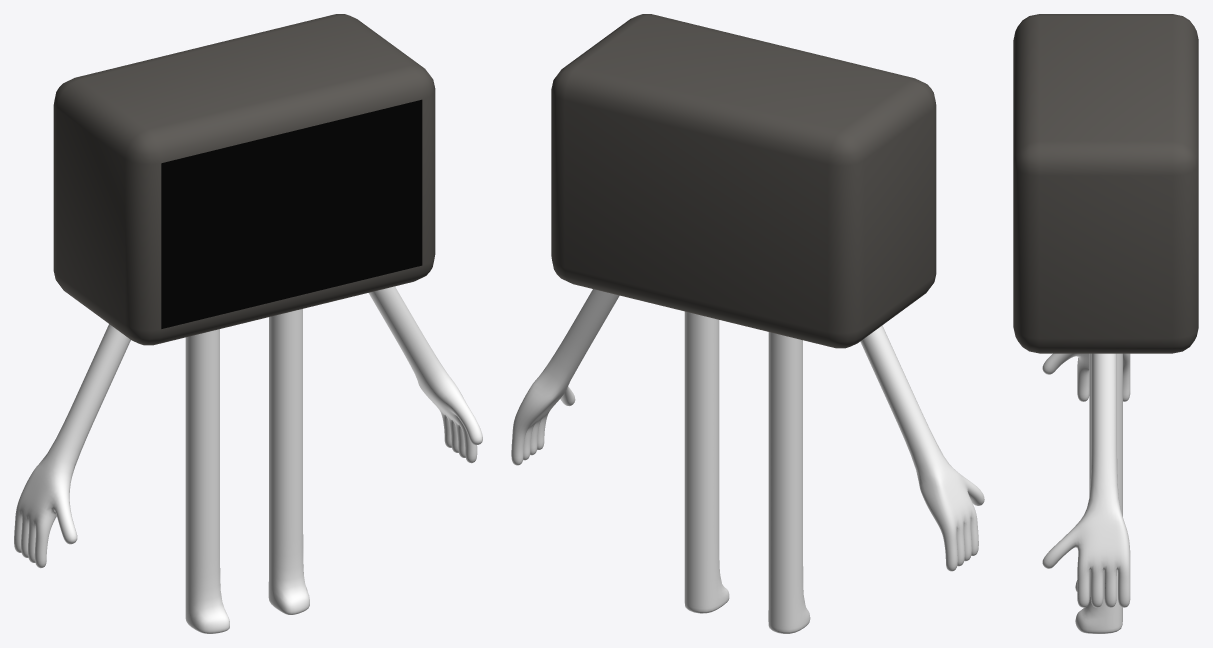
The model's file is Manager.fbx.
3 renders of one model, left to right at view 1: azimuth 30°, elevation 25°; view 2: azimuth 150°, elevation 25°; view 3: azimuth 270°, elevation 25°, orthographic. The views are drawn at different scales.
Visible parts, largest first — view 1: Manager, Manager.001, Legs.008, Legs.001, Arms.008, Arms.001; view 2: Manager, Legs.001, Legs.008, Arms.008, Arms.001; view 3: Manager, Arms.001, Legs.001, Arms.008.
Boxes of the visible parts, box(x1,y1,x2,y2) form: Manager: box(53, 14, 435, 345); Manager.001: box(161, 99, 422, 328); Legs.008: box(185, 329, 229, 633); Legs.001: box(268, 309, 309, 614); Arms.008: box(14, 324, 130, 568); Arms.001: box(369, 286, 482, 463); Manager: box(551, 14, 936, 348); Legs.001: box(684, 311, 729, 613); Legs.008: box(768, 332, 810, 633); Arms.008: box(860, 325, 984, 571); Arms.001: box(511, 289, 619, 465); Manager: box(1013, 14, 1198, 353); Arms.001: box(1042, 353, 1130, 607); Legs.001: box(1075, 353, 1122, 633); Arms.008: box(1042, 353, 1130, 401).
Bounding box in the file's own units: 2.15 × 0.801 × 2.53.
